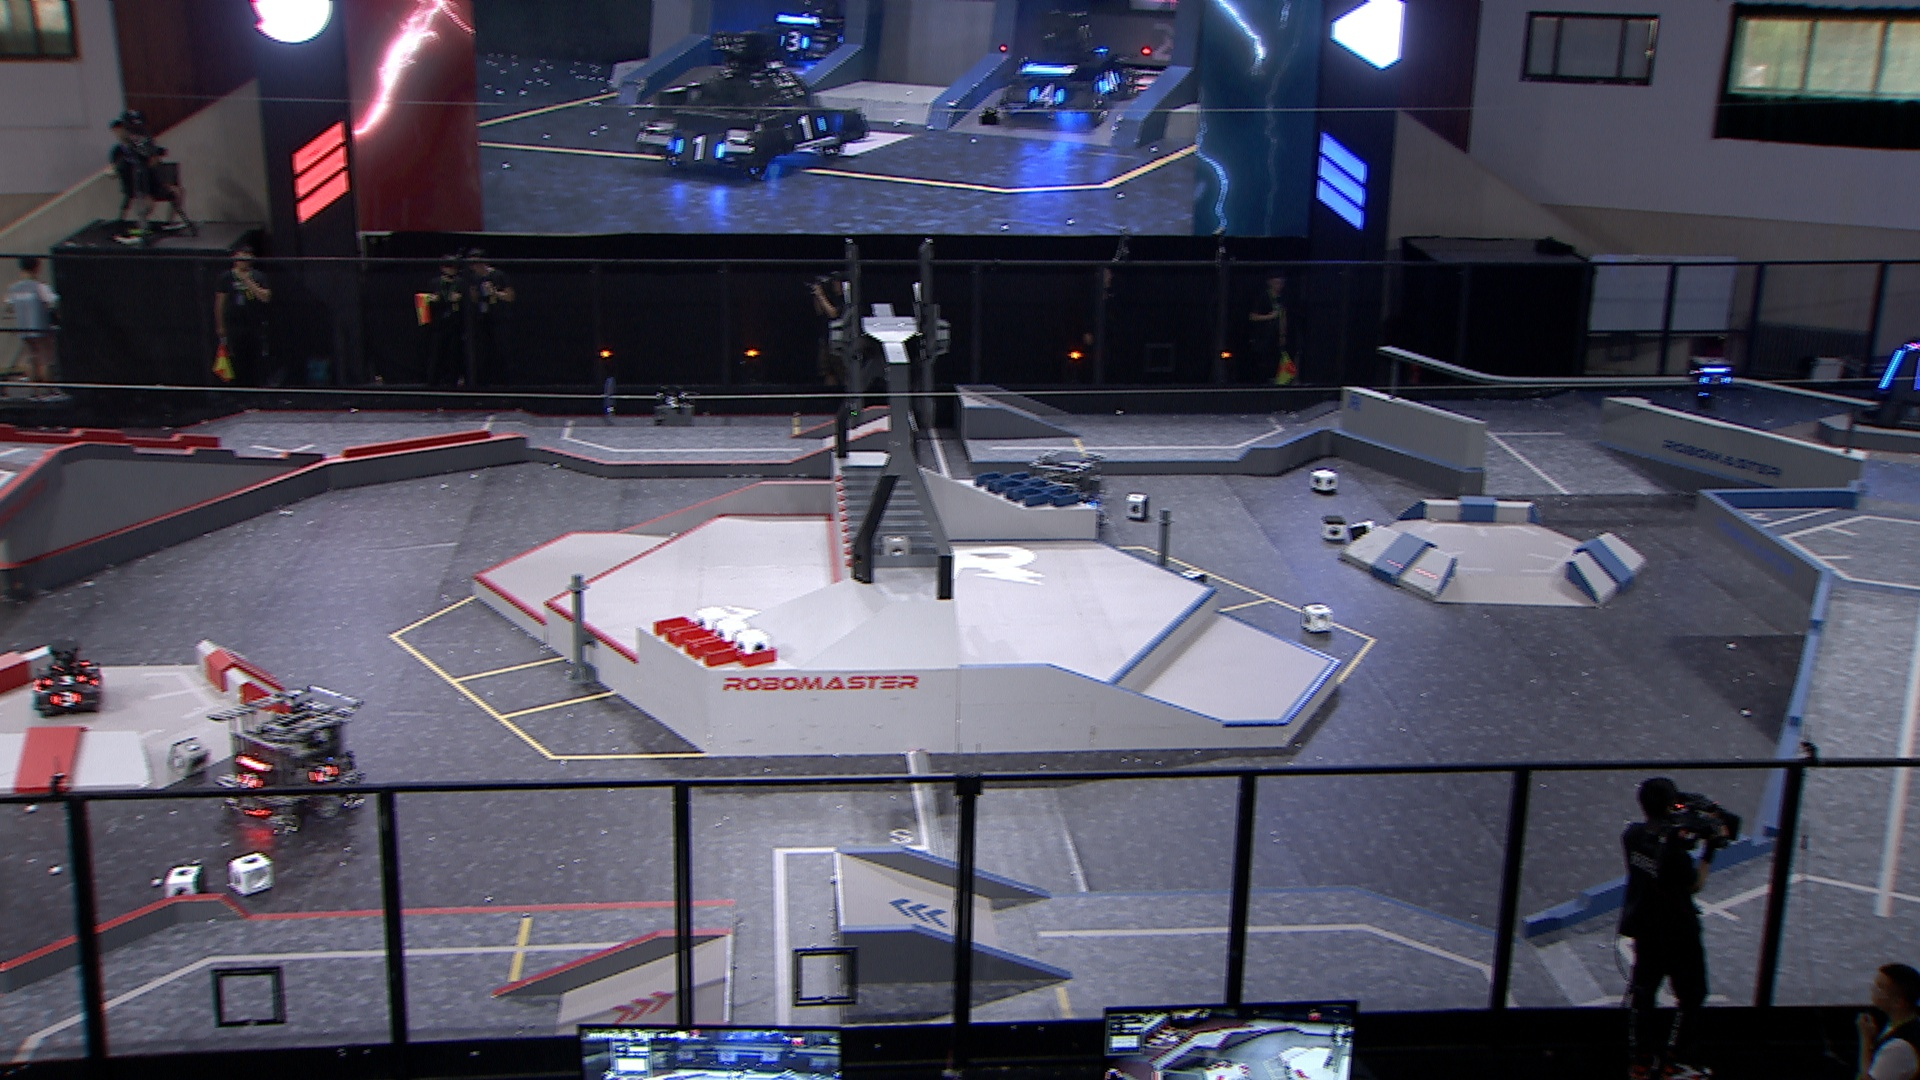armor: (1870, 348, 1905, 392), (44, 673, 87, 688), (235, 771, 266, 793), (309, 764, 342, 782), (49, 690, 82, 708), (1698, 373, 1731, 389), (1912, 361, 1920, 392)
base: (1851, 338, 1920, 429)
car: (204, 683, 375, 840), (1021, 447, 1112, 533), (30, 638, 107, 717)
ignore: (637, 26, 873, 175), (994, 7, 1139, 127), (761, 0, 843, 59)
watcher: (1685, 353, 1742, 418)
